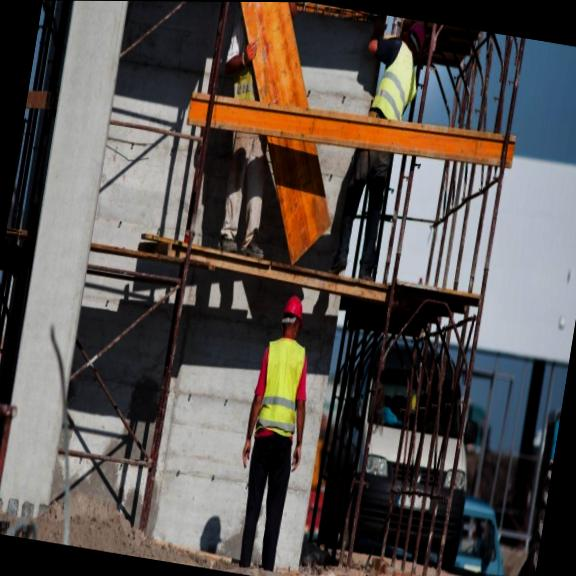safety_vest: (254, 327, 311, 439), (370, 34, 420, 124)
